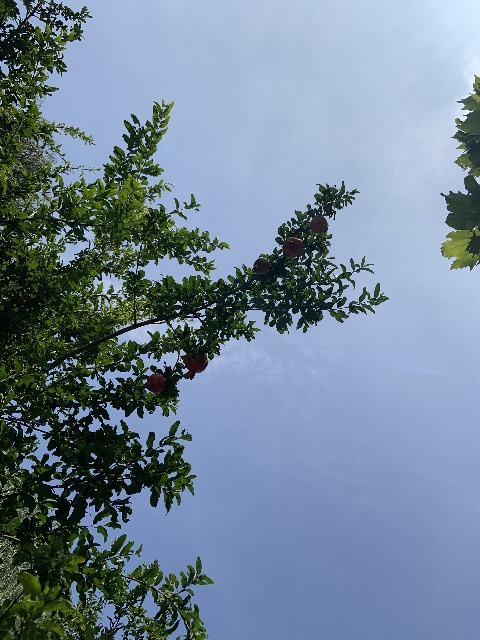ripe: (182, 351, 208, 380), (282, 236, 303, 257), (144, 373, 166, 393), (251, 256, 269, 274), (310, 216, 329, 233)
